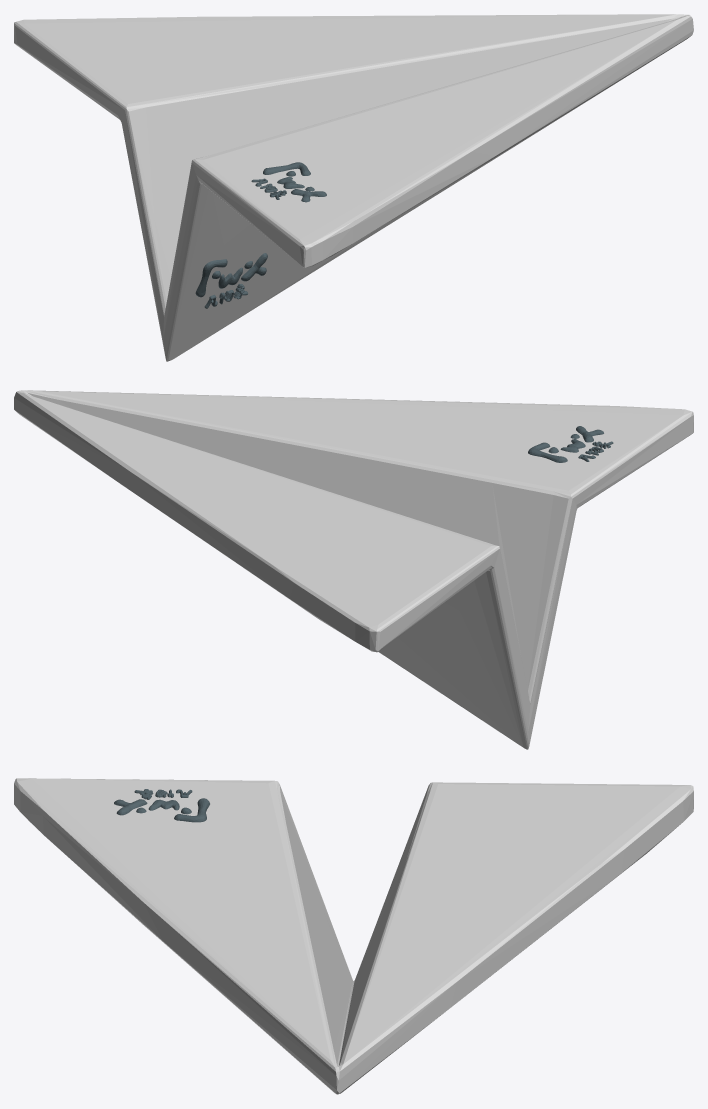
Rendered from airplane.glb.
The picture shows the model from 3 angles, top to bottom: view 1: azimuth 30°, elevation 25°; view 2: azimuth 150°, elevation 25°; view 3: azimuth 270°, elevation 25°; orthographic projection. The views are drawn at different scales.
Parts seen in each view (by area): view 1: Circle.092, mesh_node.001, mesh_node; view 2: Circle.092, mesh_node; view 3: Circle.092, mesh_node.
Boxes of the visible parts, x1,y1,x2,y2 form: Circle.092: (14,14,693,361); mesh_node.001: (195,253,267,308); mesh_node: (251,162,326,202); Circle.092: (14,390,693,749); mesh_node: (528,426,613,462); Circle.092: (14,778,693,1094); mesh_node: (114,789,209,822).
Bounding box in the file's own units: 2.18 × 0.912 × 2.14.
